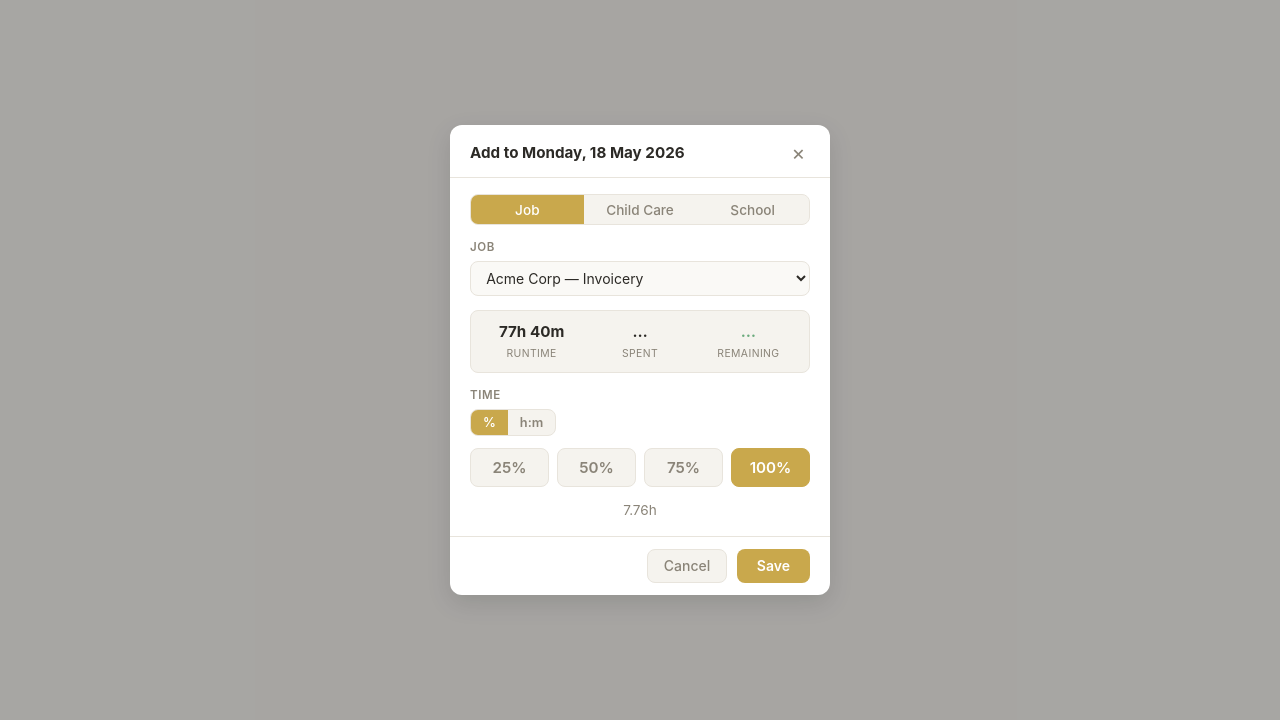
Test: AddEntryModal › Child Care tab hides the jobs <select>
Click the button "Child Care". click: (640, 210)
box: x1=584 y1=195 x2=696 y2=224
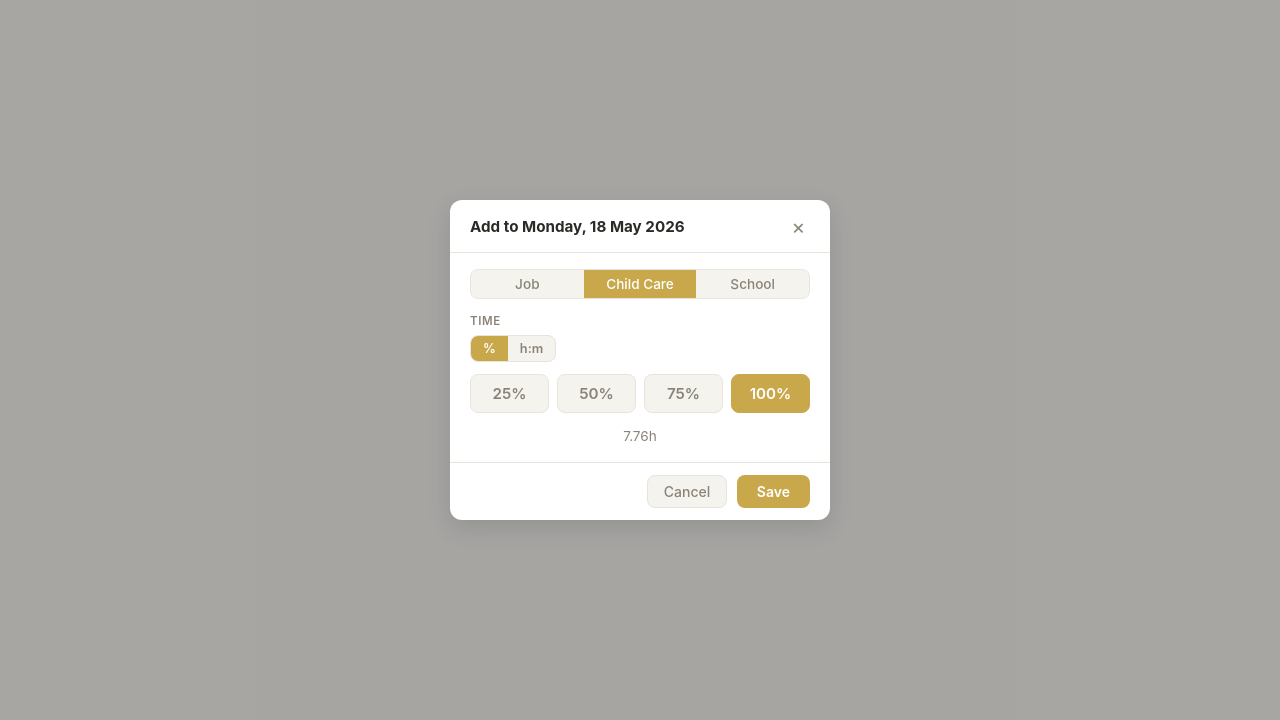
Now the dropdown is gone
